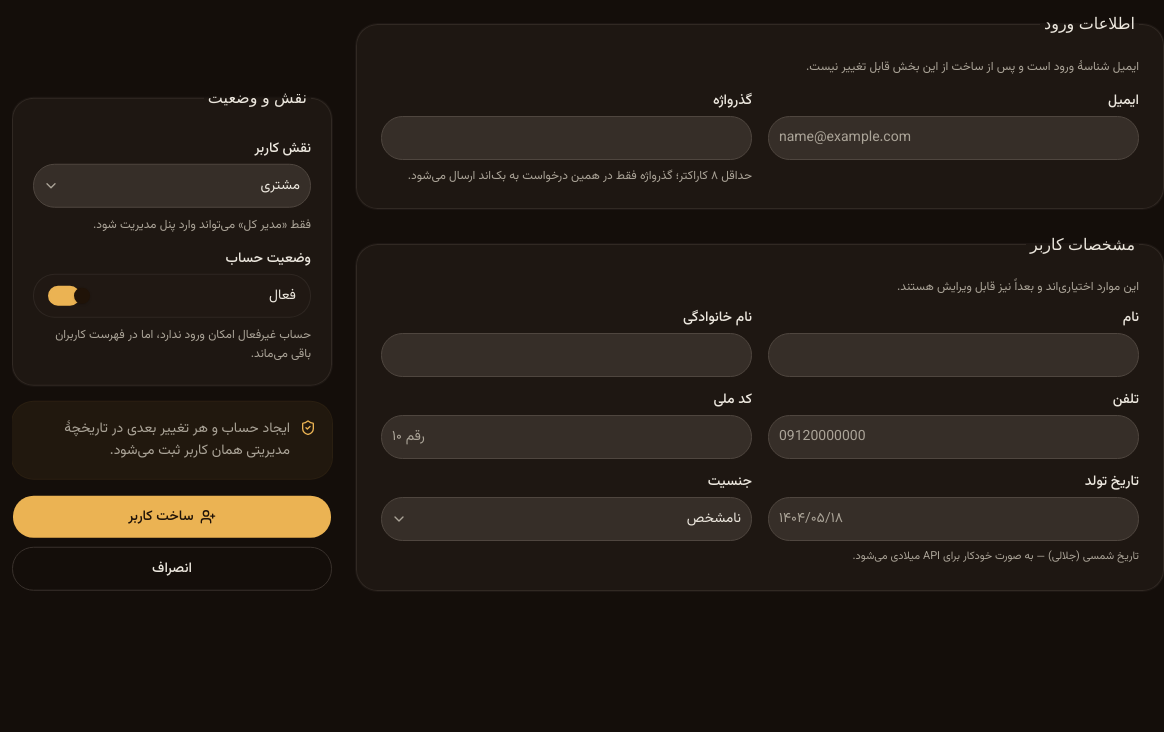
Test: UserCreateForm › maps backend field errors inline and focuses the first invalid field
Type " mina@example.com " into the field labelled "ایمیل". click: (954, 138)
box: [768,116,1139,160]
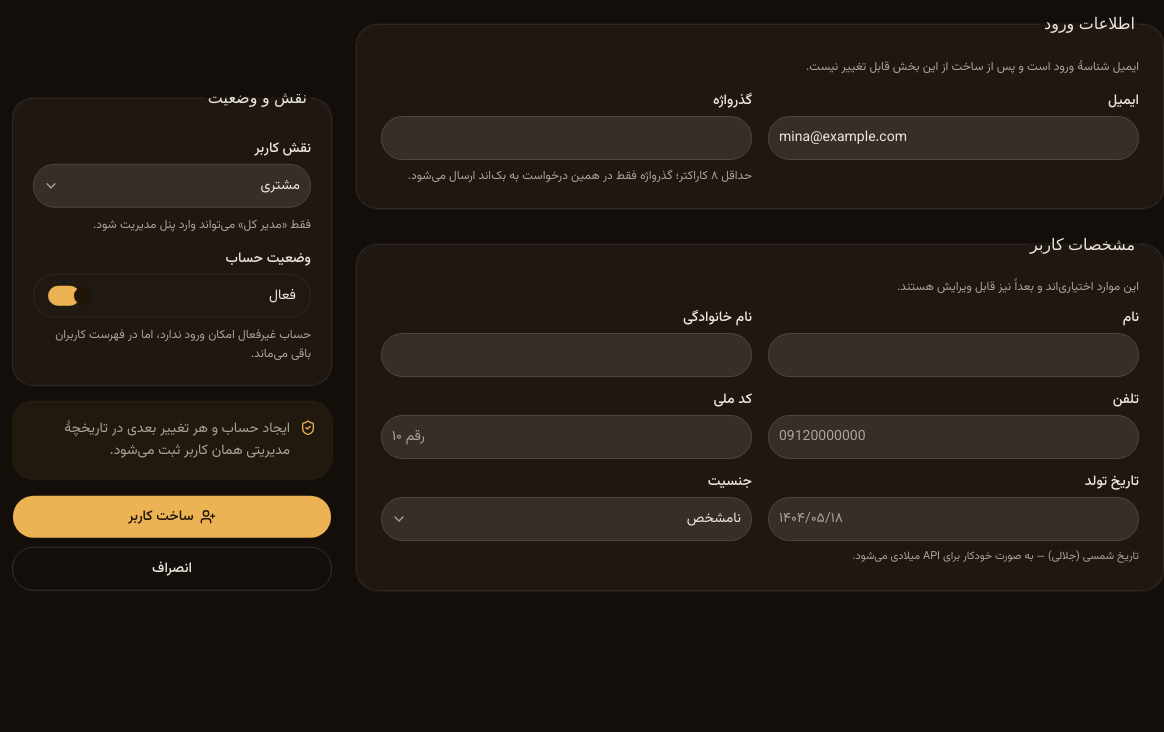
Type "secure-pass" into the password field labelled "گذرواژه". click: (566, 138)
box: [381,116,752,160]
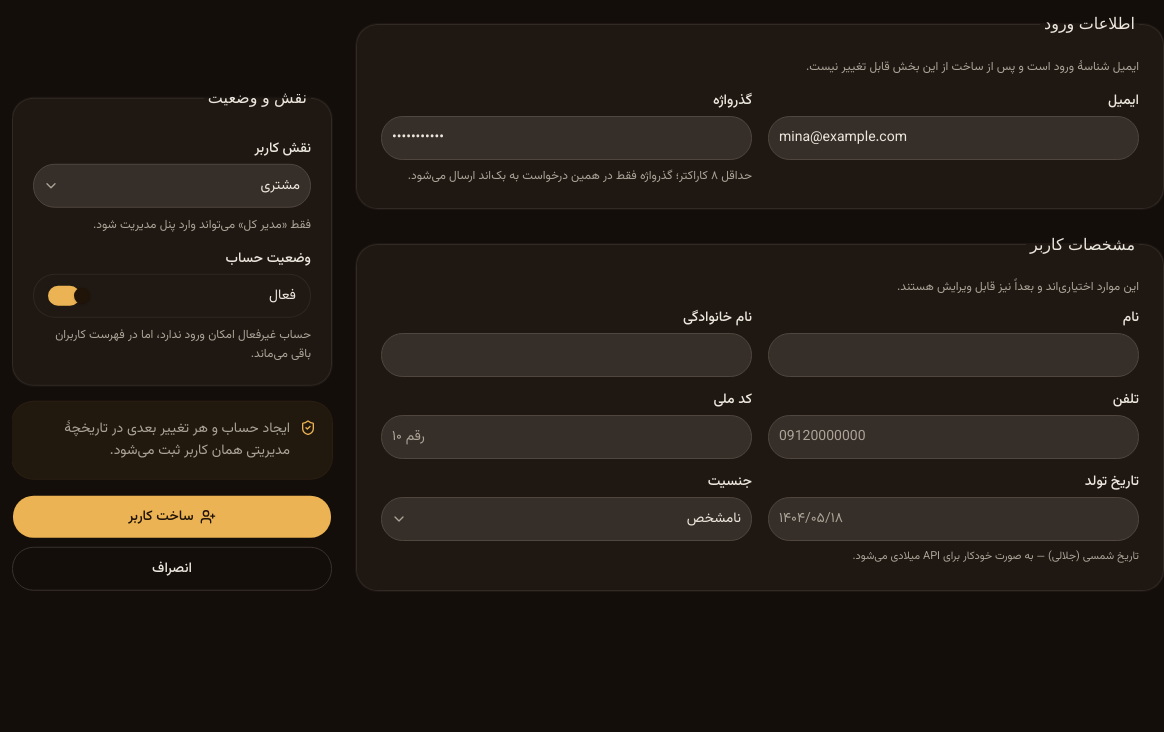
Click the button "ساخت کاربر". click: (172, 517)
box: [12,495,332,539]
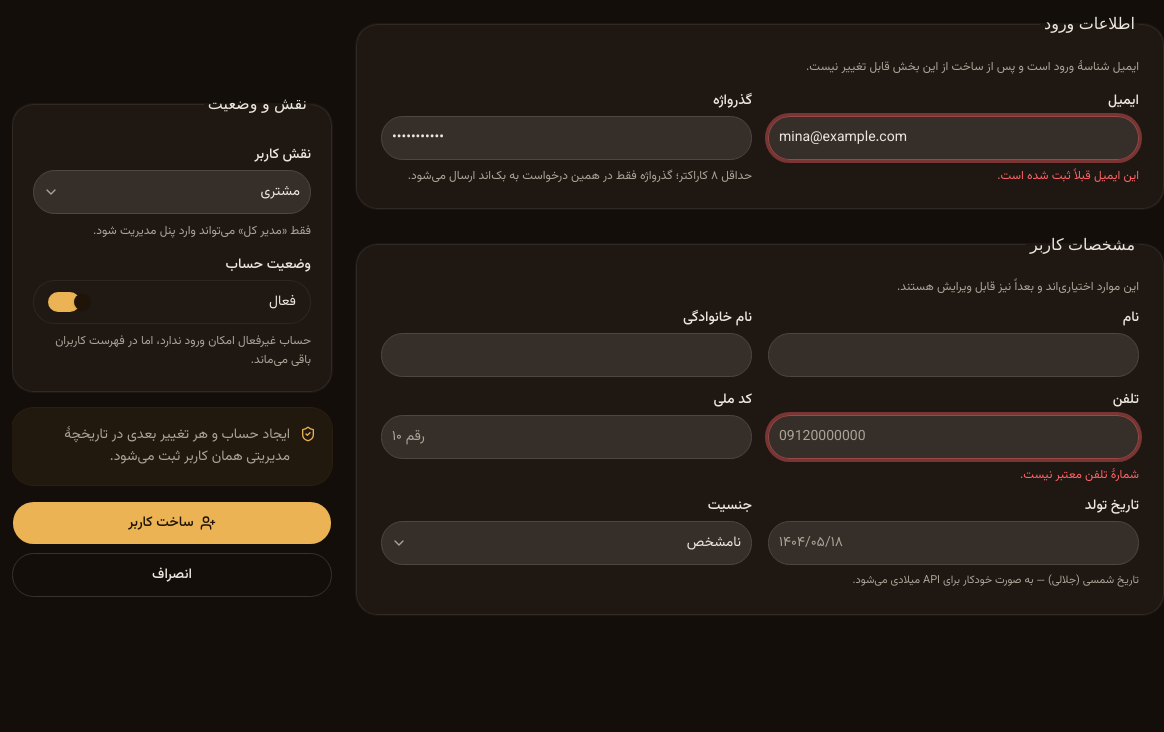
Expected: the text "این ایمیل قبلاً ثبت شده است." is shown, [997,166,1139,184]
Expected: the text "شمارهٔ تلفن معتبر نیست." is shown, [1020,466,1139,484]
